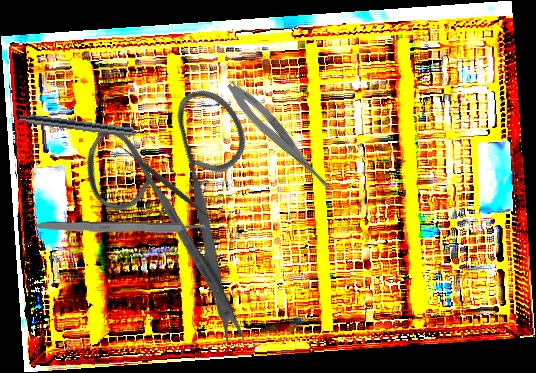Handpiece: (18, 112, 157, 143)
Iris Scissors: (39, 53, 347, 353)
Micro Scissor: (221, 77, 343, 198)
Scalpel Handle: (29, 220, 207, 236)
Spatula Surgical: (113, 137, 226, 233)
